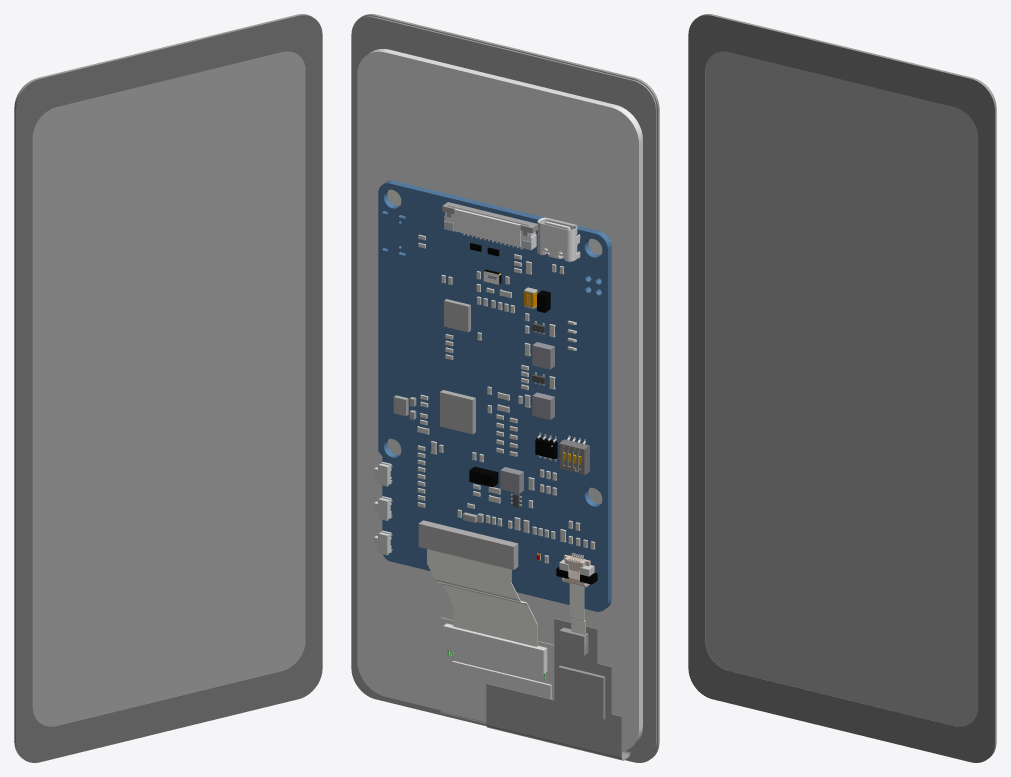
The picture shows the model from 3 angles, left to right: view 1: azimuth 30°, elevation 25°; view 2: azimuth 150°, elevation 25°; view 3: azimuth 330°, elevation 25°; orthographic projection.
Parts seen in each view (by area): view 1: 6_25INCH-720X1560-TP; view 2: 6_25INCH-LX625HDK40186-V0, OPEN_CASCADE_STEP_TRANSLATOR_7_, 6_25INCH-720X1560-TP, FPC, EXTRUDED-26932, 1MM-15PIN-FPC-CONNECTOR, TYPE-C_16PIN-9X3X7_3, EXTRUDED-4164, SWITCH-SMT-TDA04, EXTRUDED-4379, EXTRUDED-11542, EXTRUDED-10816 (+2 smaller); view 3: 6_25INCH-720X1560-TP.
Boxes of the visible parts, bbox=[...] form: 6_25INCH-720X1560-TP: bbox=[14, 14, 322, 762]; 6_25INCH-LX625HDK40186-V0: bbox=[357, 49, 642, 751]; OPEN_CASCADE_STEP_TRANSLATOR_7_: bbox=[378, 180, 611, 611]; 6_25INCH-720X1560-TP: bbox=[351, 14, 659, 762]; FPC: bbox=[427, 549, 585, 646]; EXTRUDED-26932: bbox=[418, 520, 518, 569]; 1MM-15PIN-FPC-CONNECTOR: bbox=[442, 202, 537, 250]; TYPE-C_16PIN-9X3X7_3: bbox=[537, 217, 580, 261]; EXTRUDED-4164: bbox=[440, 390, 475, 434]; SWITCH-SMT-TDA04: bbox=[559, 435, 589, 474]; EXTRUDED-4379: bbox=[444, 299, 470, 332]; EXTRUDED-11542: bbox=[532, 342, 554, 369]; EXTRUDED-10816: bbox=[500, 467, 523, 493]; 6_25INCH-720X1560-TP: bbox=[688, 14, 996, 762].
Size of the model in its own units: 74.7 by 159 by 8.85.
